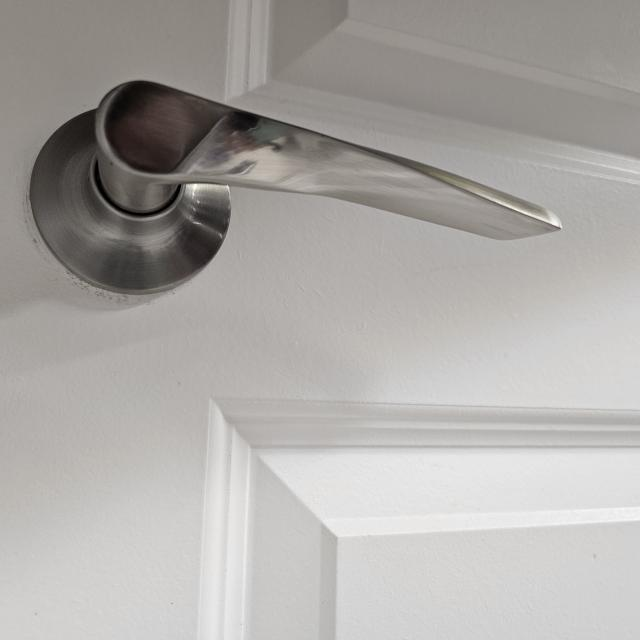door-handle: (30, 81, 560, 295)
